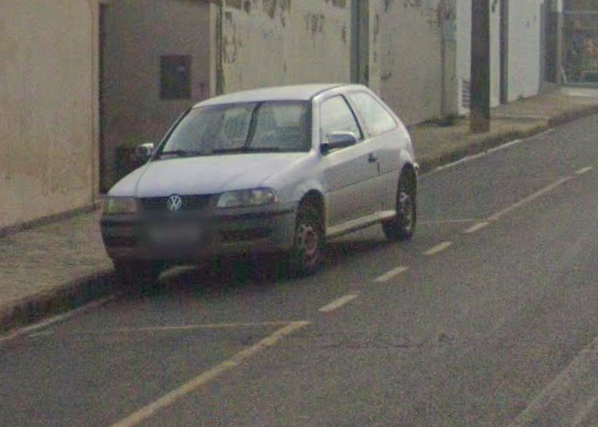car: (97, 76, 423, 287)
